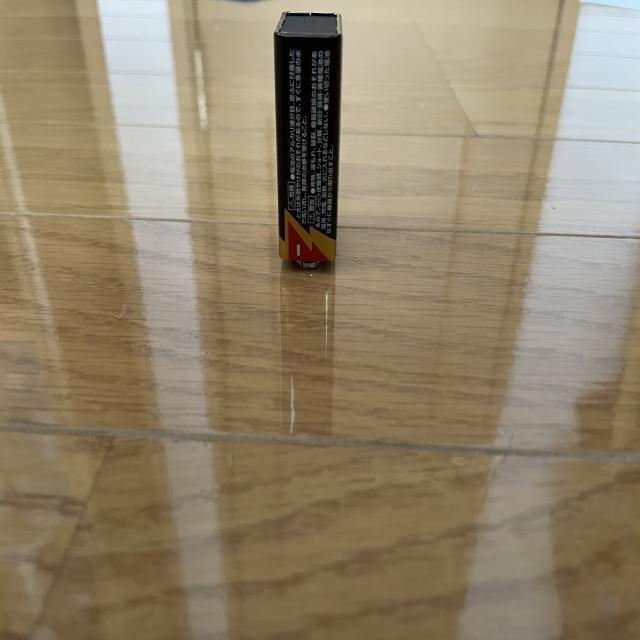9V: (272, 9, 344, 270)
